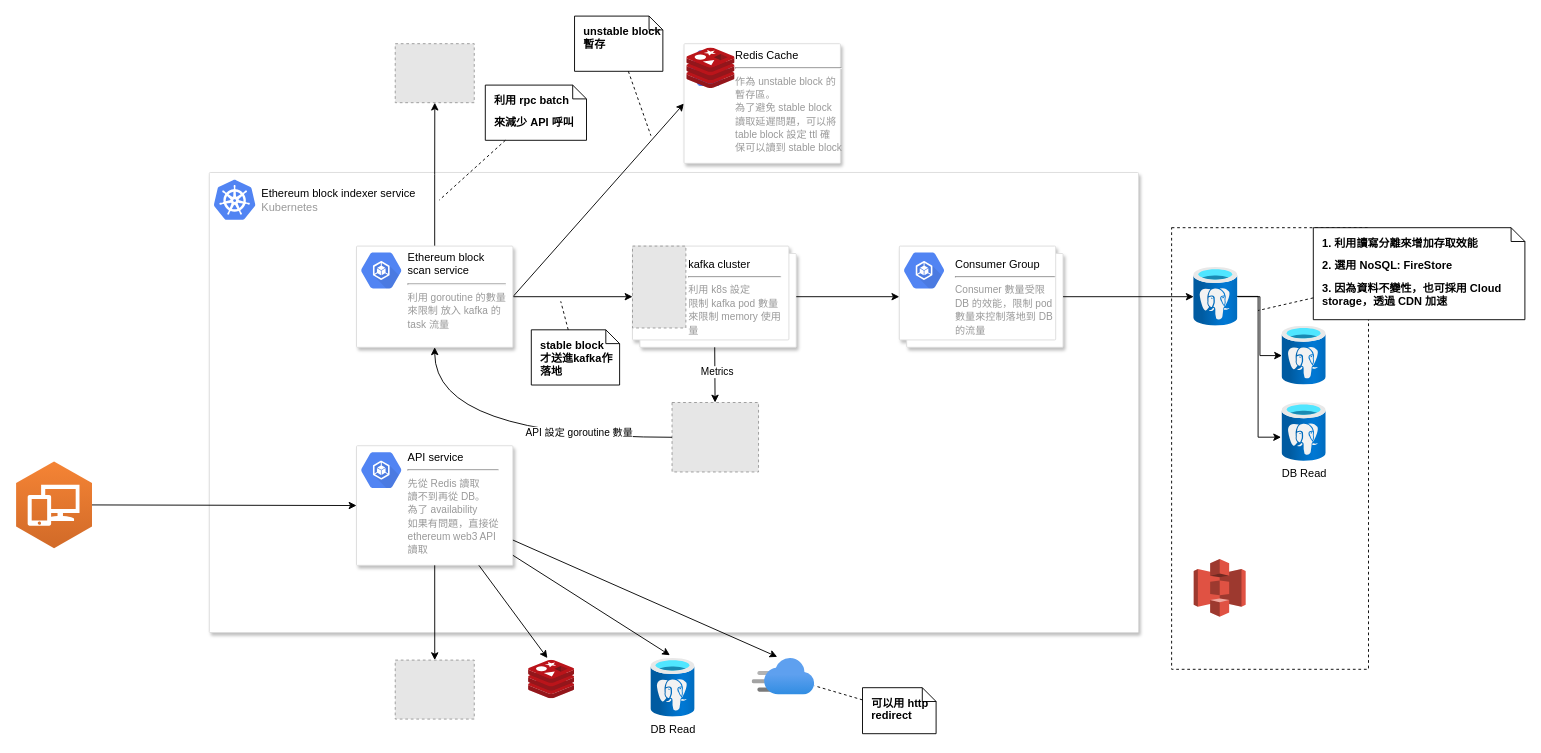
Image size: 1541x753. Some labels were removed from this diagram. Grey dashed boxes stand in for pictures. The centre of each missing label's shape, as x and y in pixels:
"API request" goes at (x=53, y=504).
"AWS S3" goes at (x=1219, y=587).
"CDN" goes at (x=783, y=676).
"PostgreSQL Write" goes at (x=1215, y=296).
"Redis" goes at (x=551, y=679).
